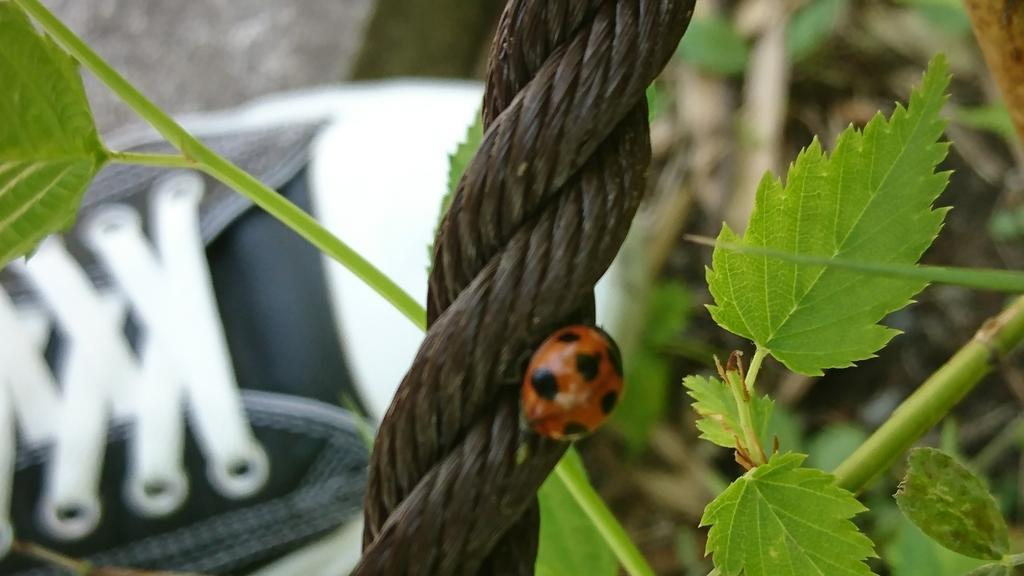ladybug: (511, 316, 633, 451)
